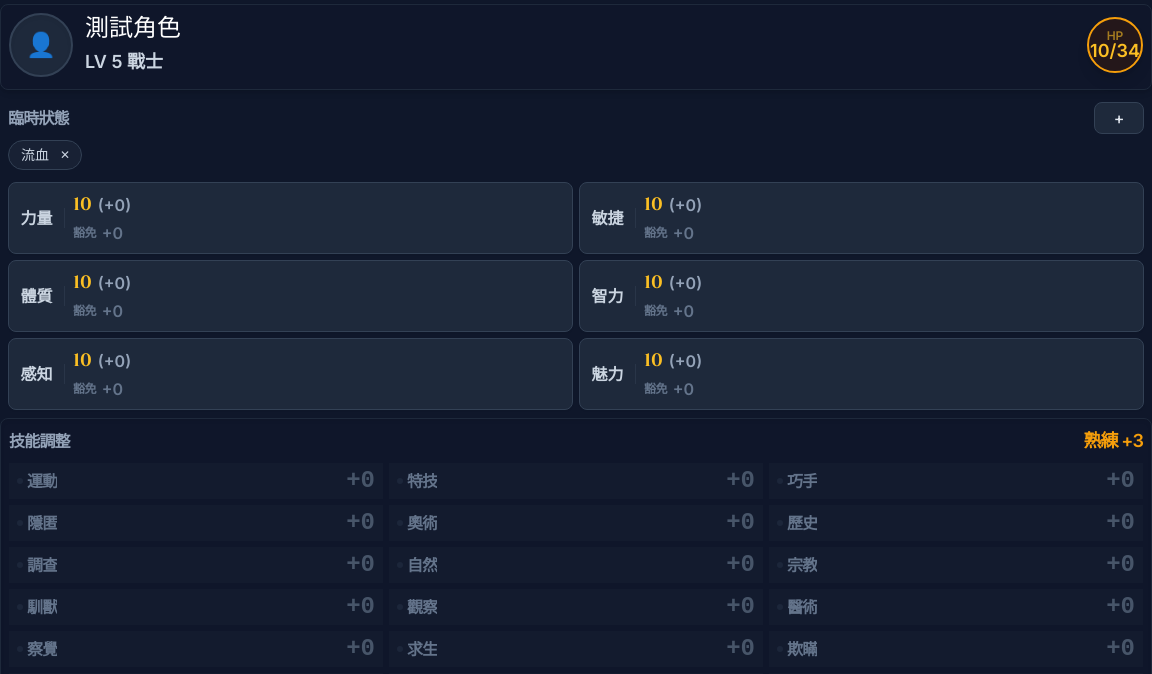
角色頁 - 臨時狀態 › 刪除臨時狀態：點擊 ✕ 跳確認視窗，確認後呼叫 deleteTemporaryCondition 並移除 chip
Expected: the text "流血" is shown, x1=21 y1=145 x2=49 y2=165
Click the button named "刪除臨時狀態 流血": (65, 155) x1=55 y1=145 x2=75 y2=165
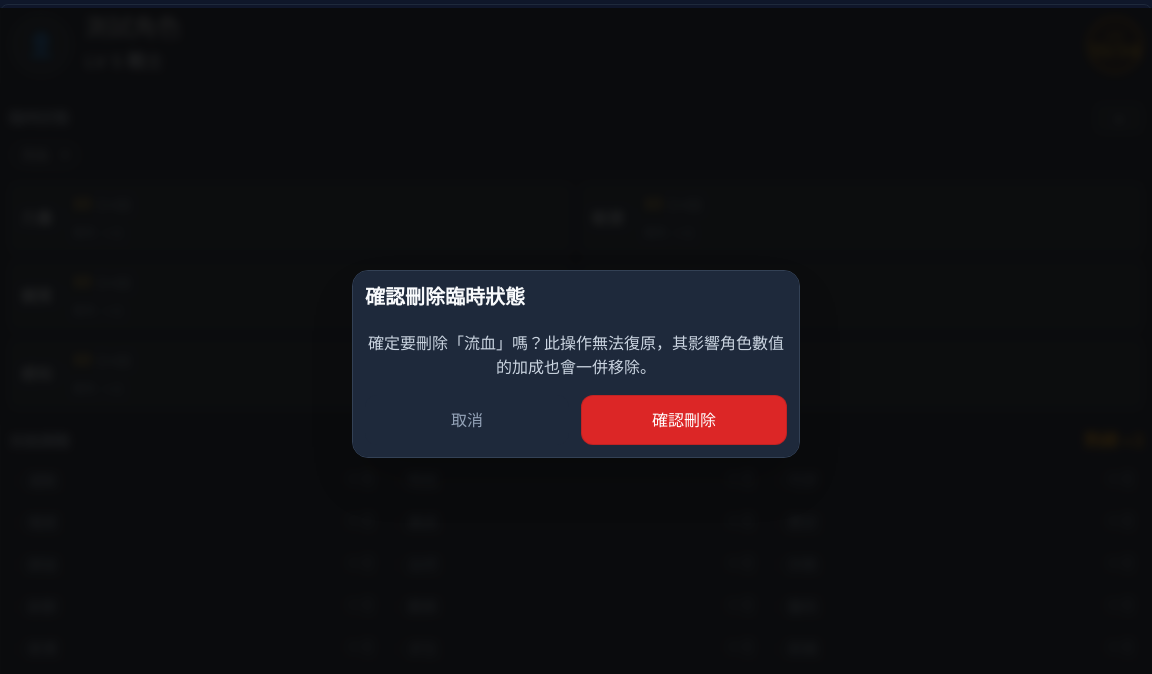
Expected: the heading "確認刪除臨時狀態" is shown, x1=365 y1=285 x2=525 y2=309
Click the button "確認刪除": (684, 420) x1=581 y1=395 x2=787 y2=445
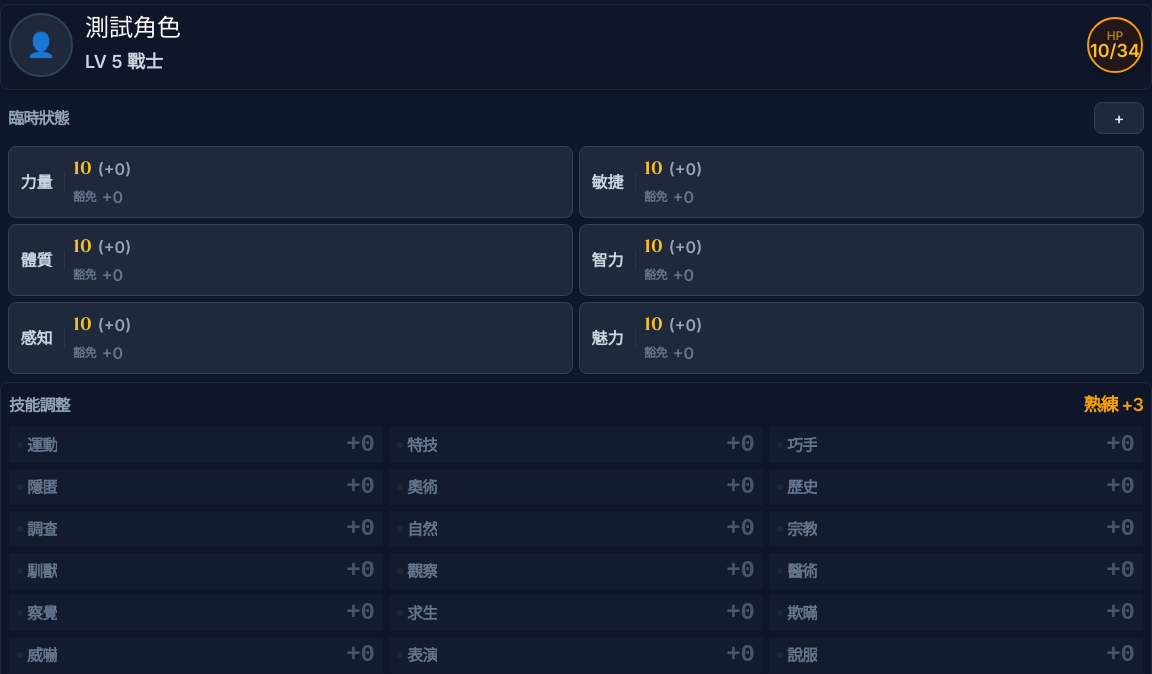
Expected: the button "流血" is gone
